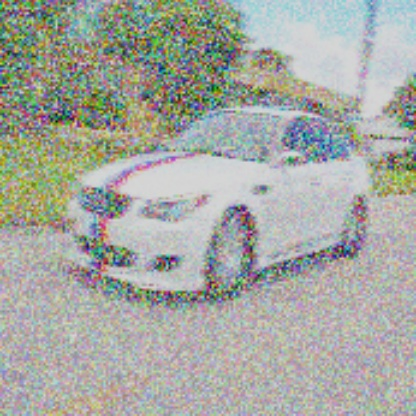Vehicle: (65, 104, 369, 301)
